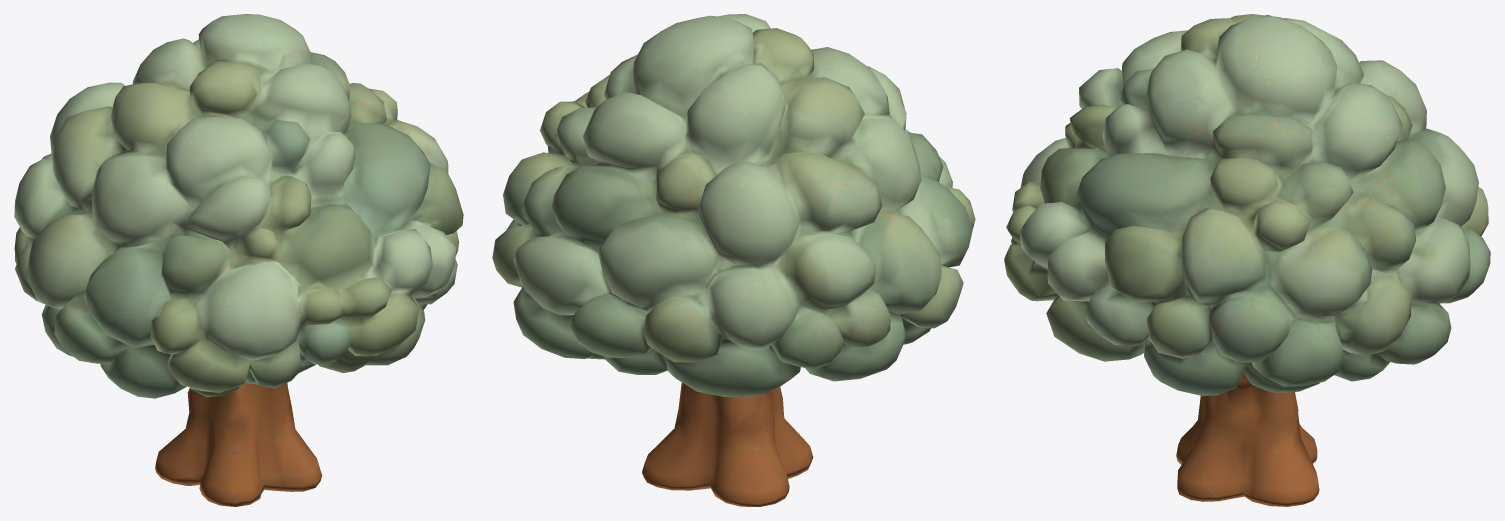
Rendered from tree.glb.
The picture shows the model from 3 angles, left to right: view 1: azimuth 30°, elevation 25°; view 2: azimuth 150°, elevation 25°; view 3: azimuth 270°, elevation 25°; orthographic projection. The views are drawn at different scales.
Bounding box in the file's own units: 0.9541 × 1 × 0.9705.
Materials: 1 (1 with a texture image).
